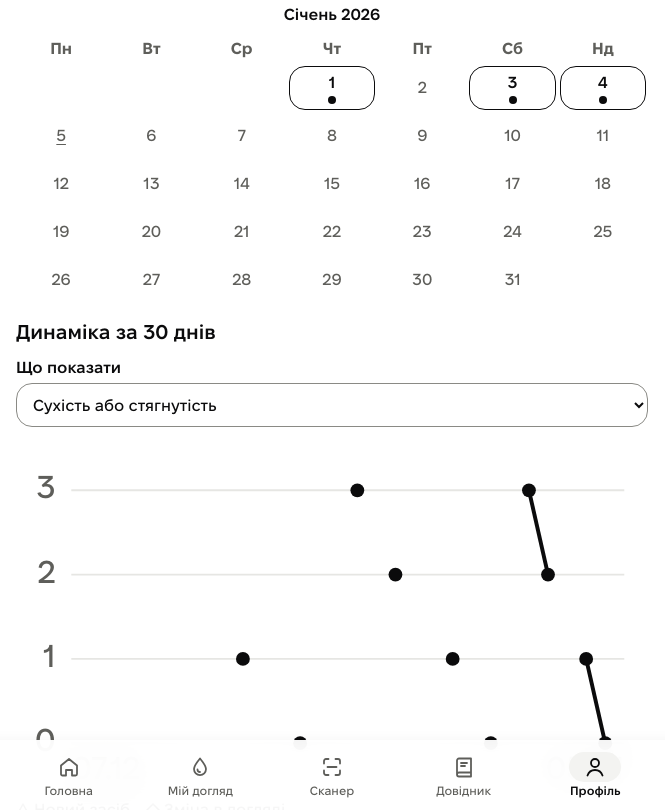
Test case: the 30-day chart › a symptom nobody noted: says so and draws no points
(page scrolled)
Select "Печіння" in the dropdown labelled "Що показати" at (332,405), box 16,383 -> 648,427
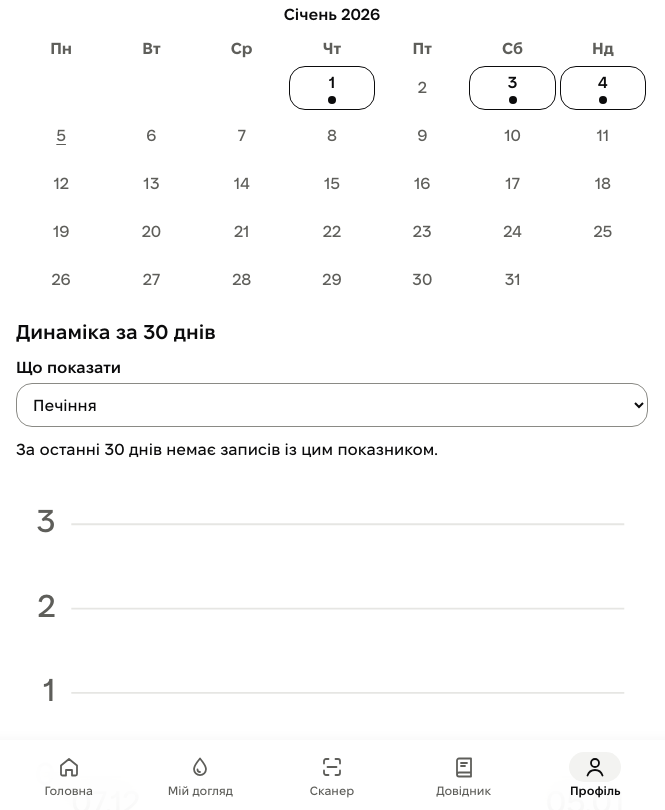
Check: the text "За останні 30 днів немає записів із цим показником." is shown, box 16,441 -> 438,458
